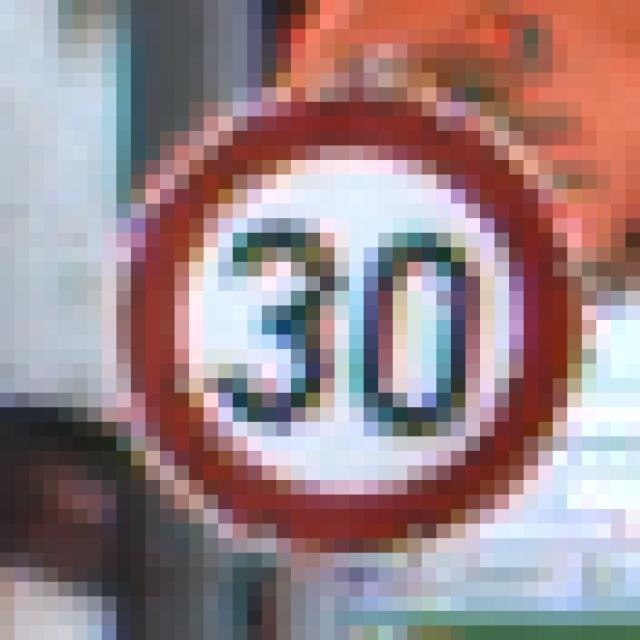Speed Limit -30-: (80, 65, 560, 560)
